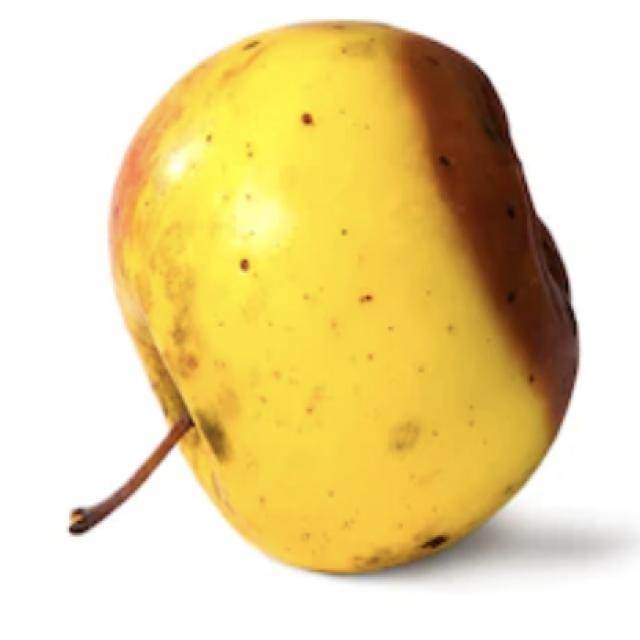rotten_apple: (76, 18, 584, 575)
